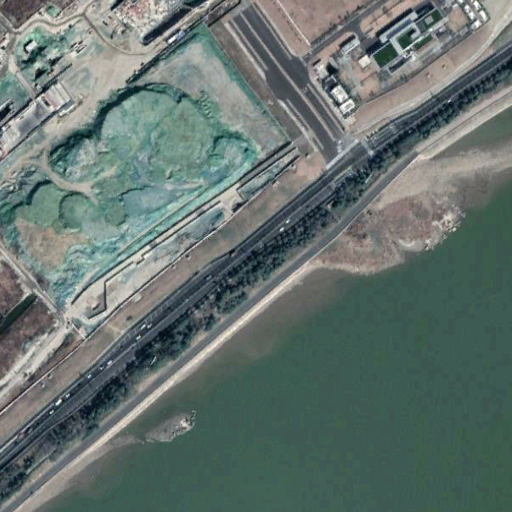cw: (6, 9, 293, 337)
